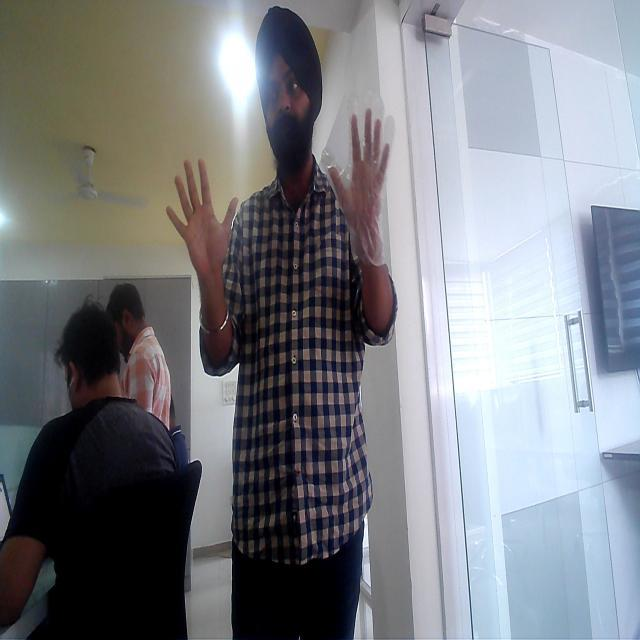with_gloves: (330, 85, 395, 273)
without_gloves: (168, 148, 245, 298)
